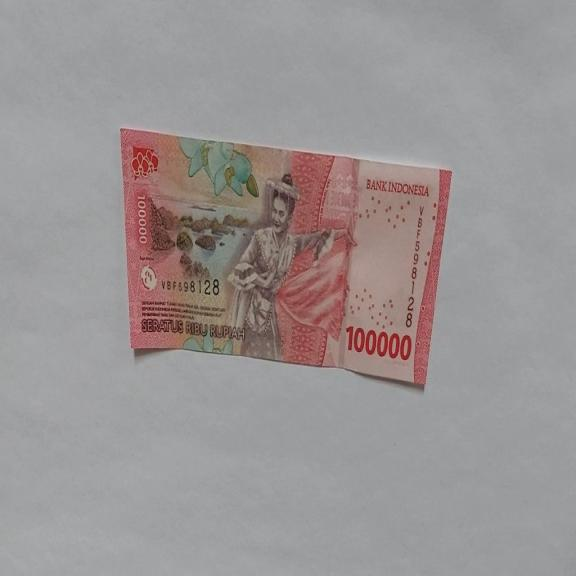Kertas: (119, 127, 453, 390), (345, 323, 412, 362)
